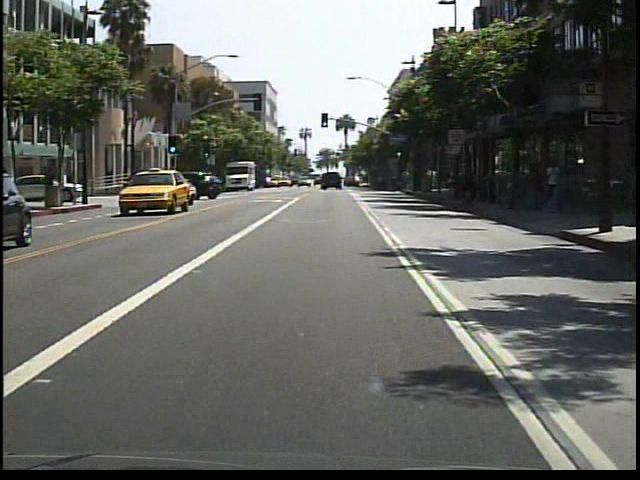person: (540, 158, 563, 223)
